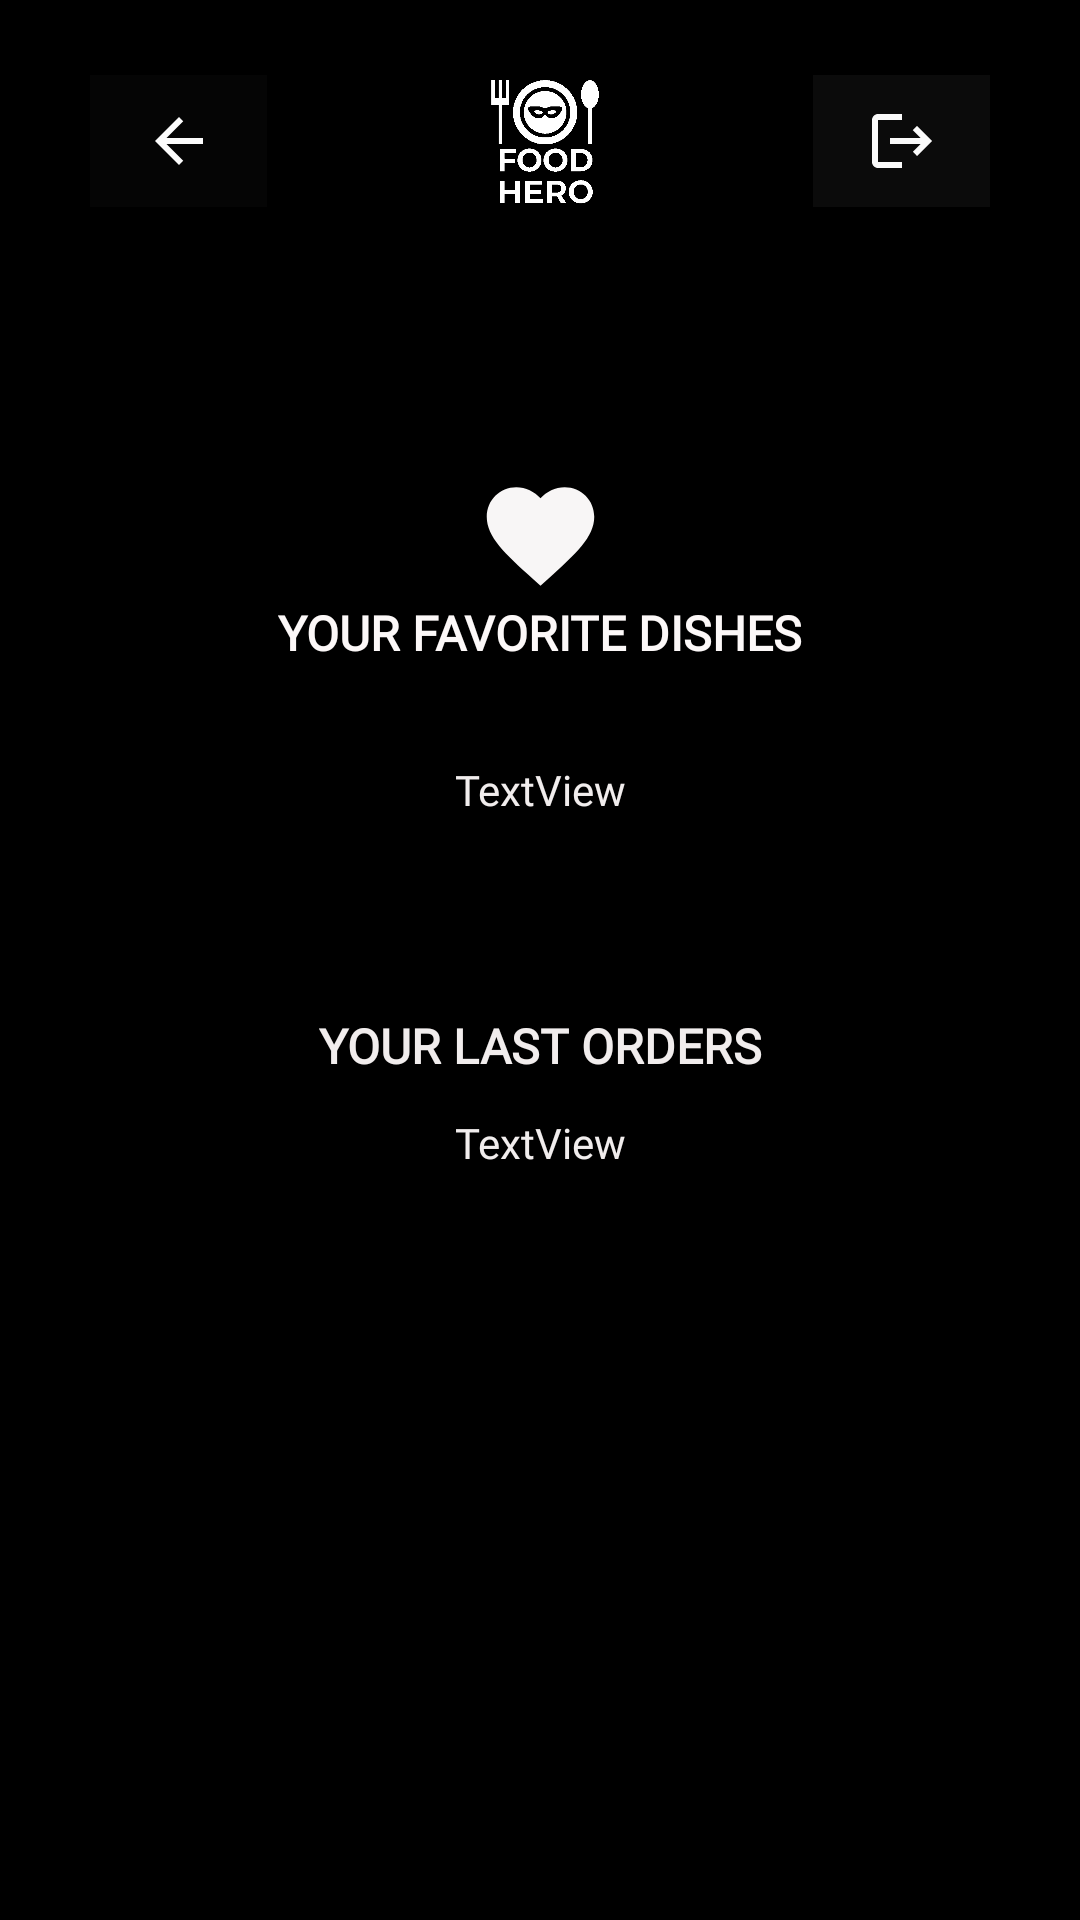

Named icons in this screenshot (1080 × 1920) and their bounding boxes, (x1=x1, y1=y1, x2=x2, y2=y2):
arrow back: (x1=155, y1=117, x2=203, y2=165)
